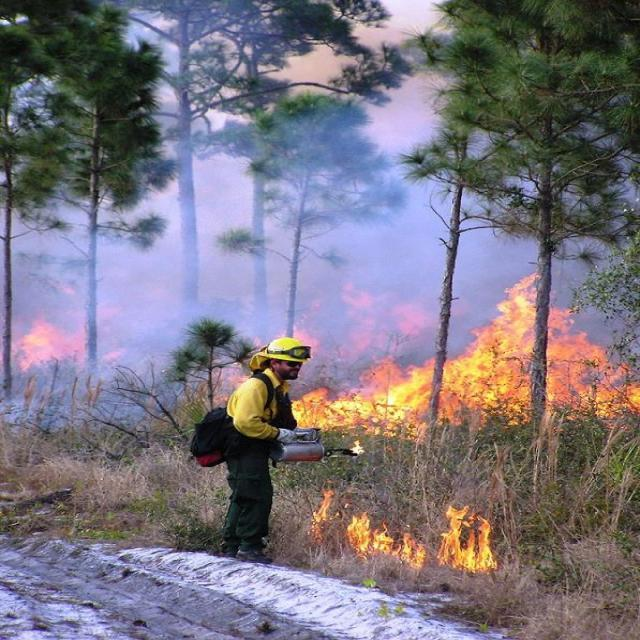Fire: (290, 270, 640, 438), (306, 478, 498, 574), (10, 311, 84, 374), (348, 439, 364, 455)
Smoke: (1, 22, 640, 430)
